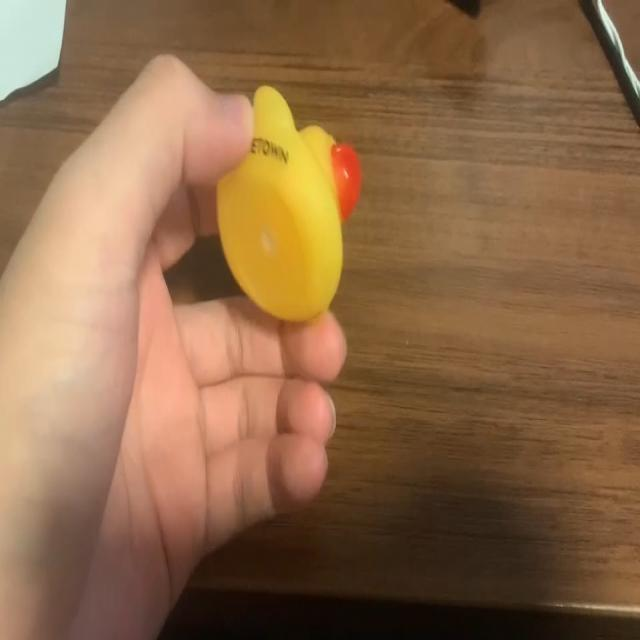rubber-duck: (216, 85, 359, 319)
